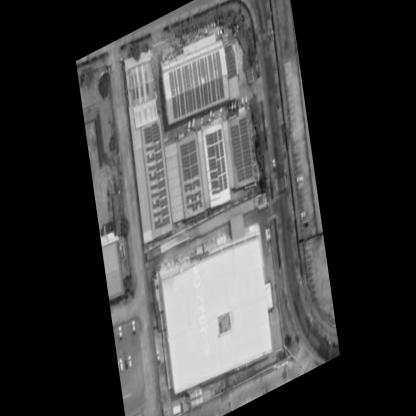solar-pv-panel: (169, 50, 225, 119), (230, 116, 253, 183), (205, 127, 227, 195), (180, 138, 199, 181), (224, 43, 237, 79), (144, 122, 161, 143), (148, 168, 165, 182), (186, 190, 201, 204), (185, 178, 200, 192), (155, 215, 170, 229), (146, 150, 162, 163), (187, 199, 202, 212), (148, 160, 164, 172), (152, 197, 168, 208), (153, 206, 169, 217), (151, 188, 167, 198), (151, 179, 165, 190), (146, 142, 161, 152)
